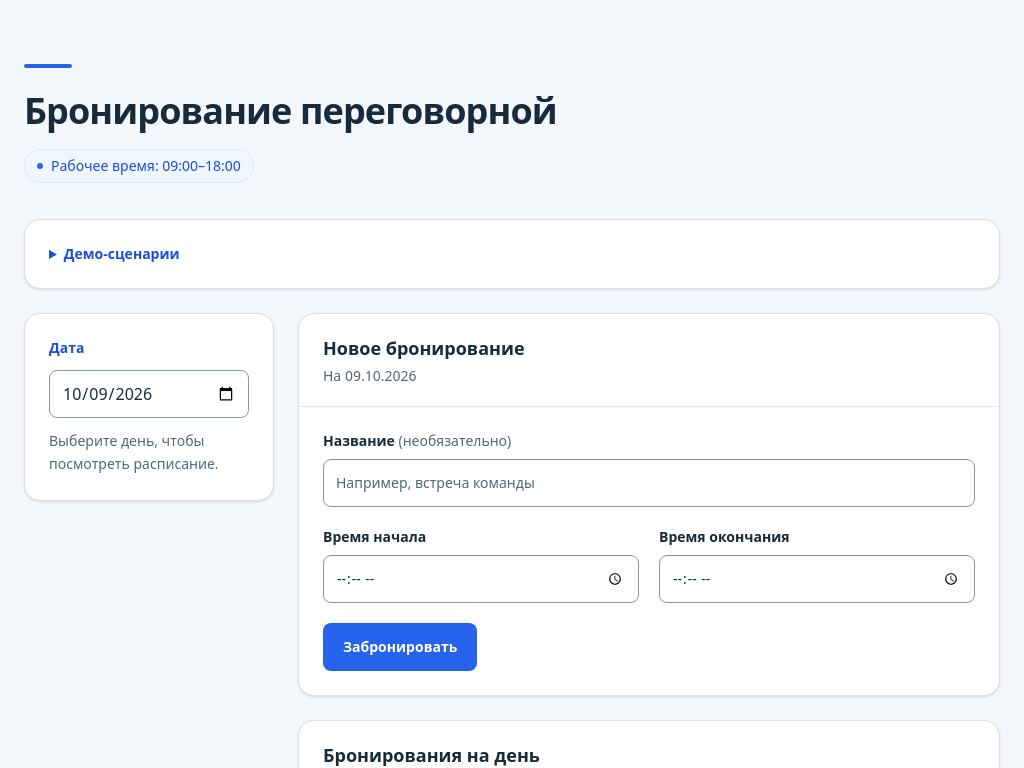
validates 10:00– on submit and associates the error with Время окончания
In the field labelled "Название (необязательно)": coordinates (649, 483) [323, 459, 975, 507], type "Встреча команды"
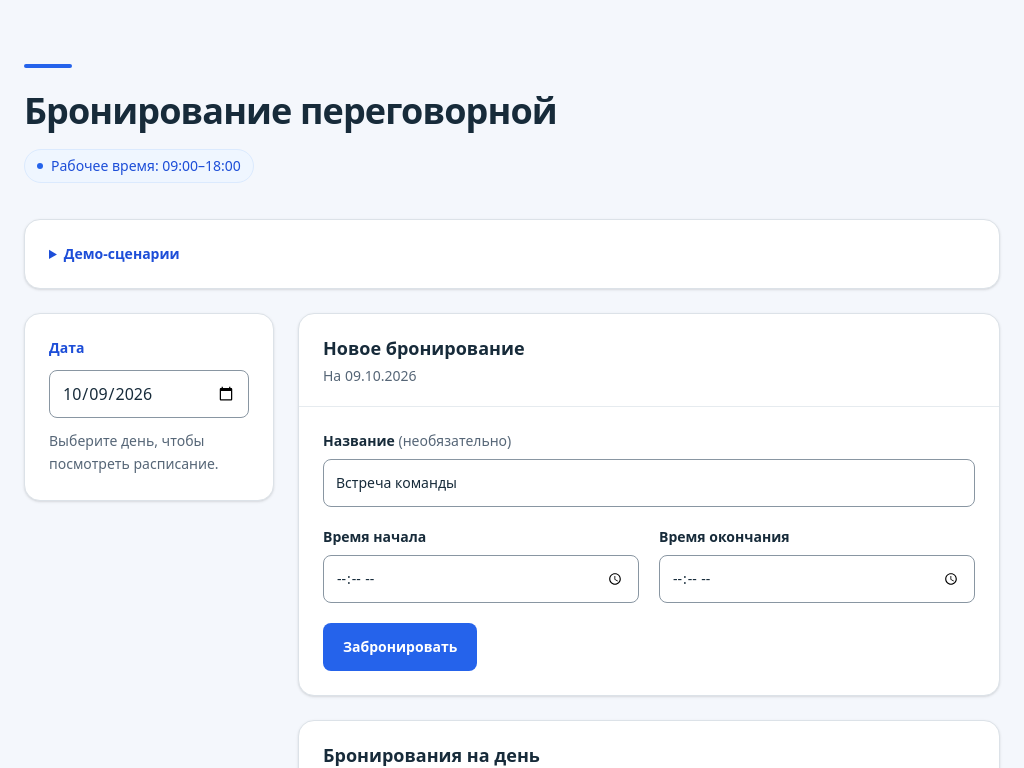
In the time field labelled "Время начала": coordinates (481, 579) [323, 555, 639, 603], type "10:00"
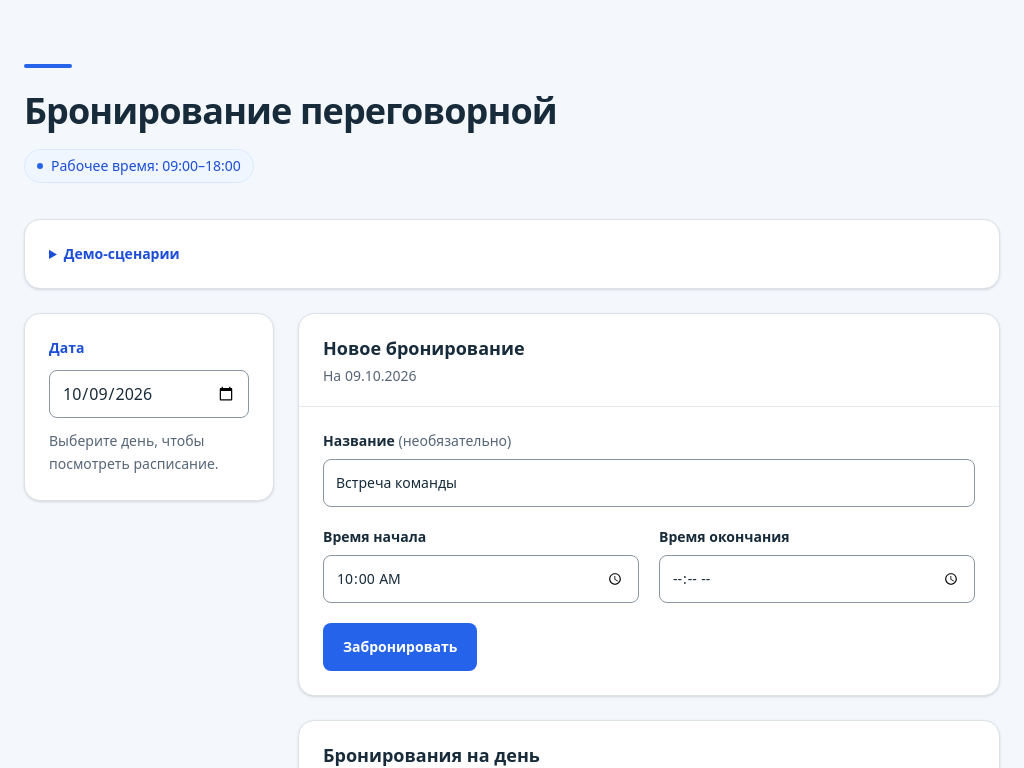
Clear the time field labelled "Время окончания": coordinates (817, 579) [659, 555, 975, 603]
Click the button "Забронировать": coordinates (400, 647) [323, 623, 477, 671]
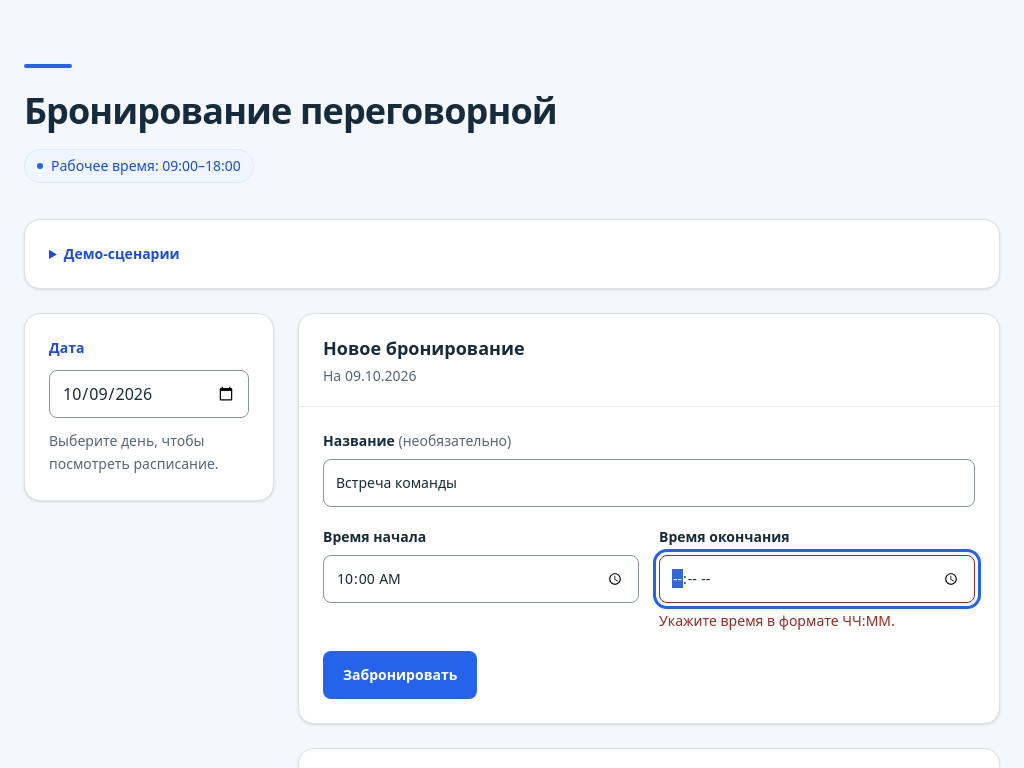
Now the message reads "Укажите время в формате ЧЧ:ММ.", box [659, 611, 895, 630]
